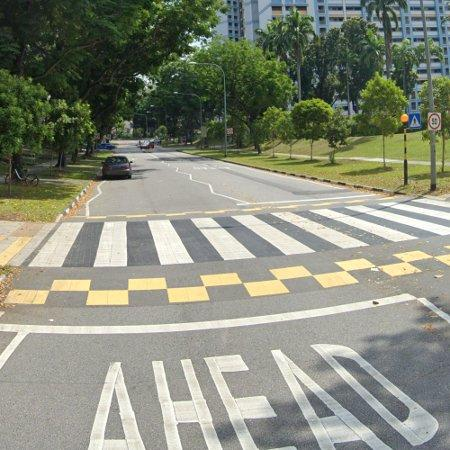crosswalks: (27, 202, 450, 268)
